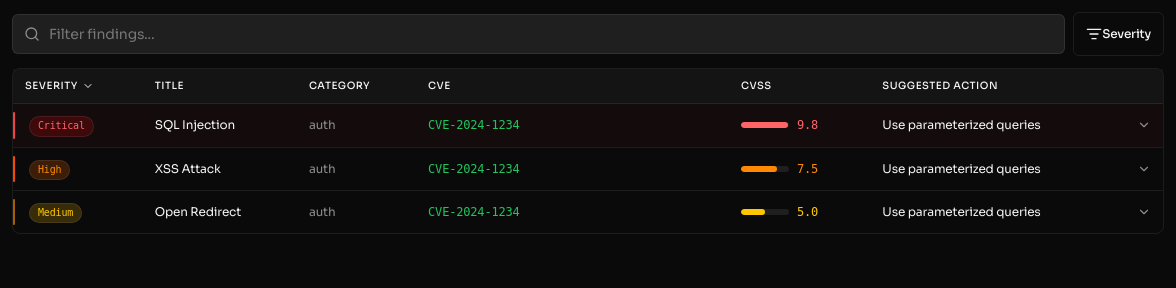
Scenario: FindingsTable › filters rows by severity checkbox in the dropdown
Step 1. Click the button with aria-label "Filter by severity" → (1119, 34), box [1073, 12, 1164, 56]
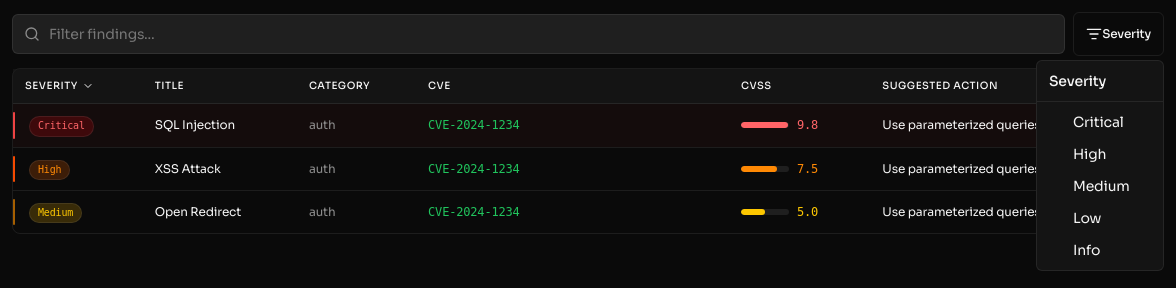
Step 2. Click the menu item "high" → (1090, 154), box [1073, 145, 1106, 163]
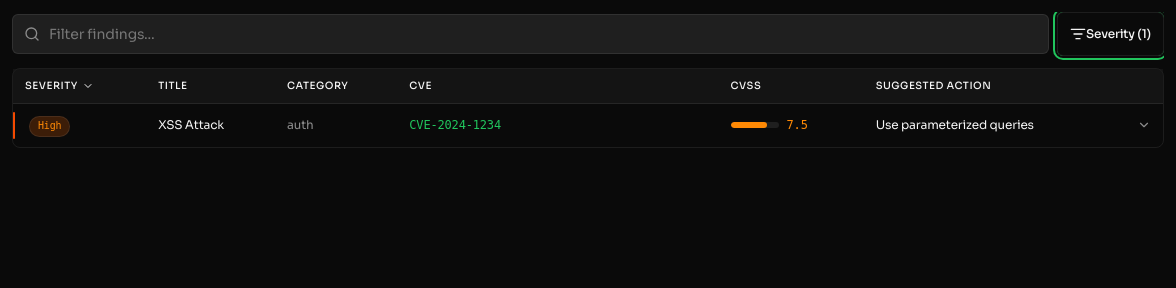
Expected: the text "SQL Injection" is gone
Expected: the text "Open Redirect" is gone
